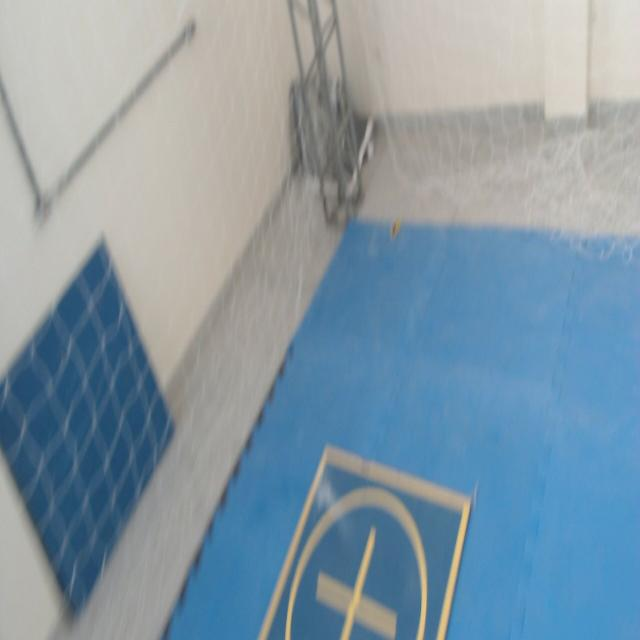base_pouso: (257, 446, 476, 639)
